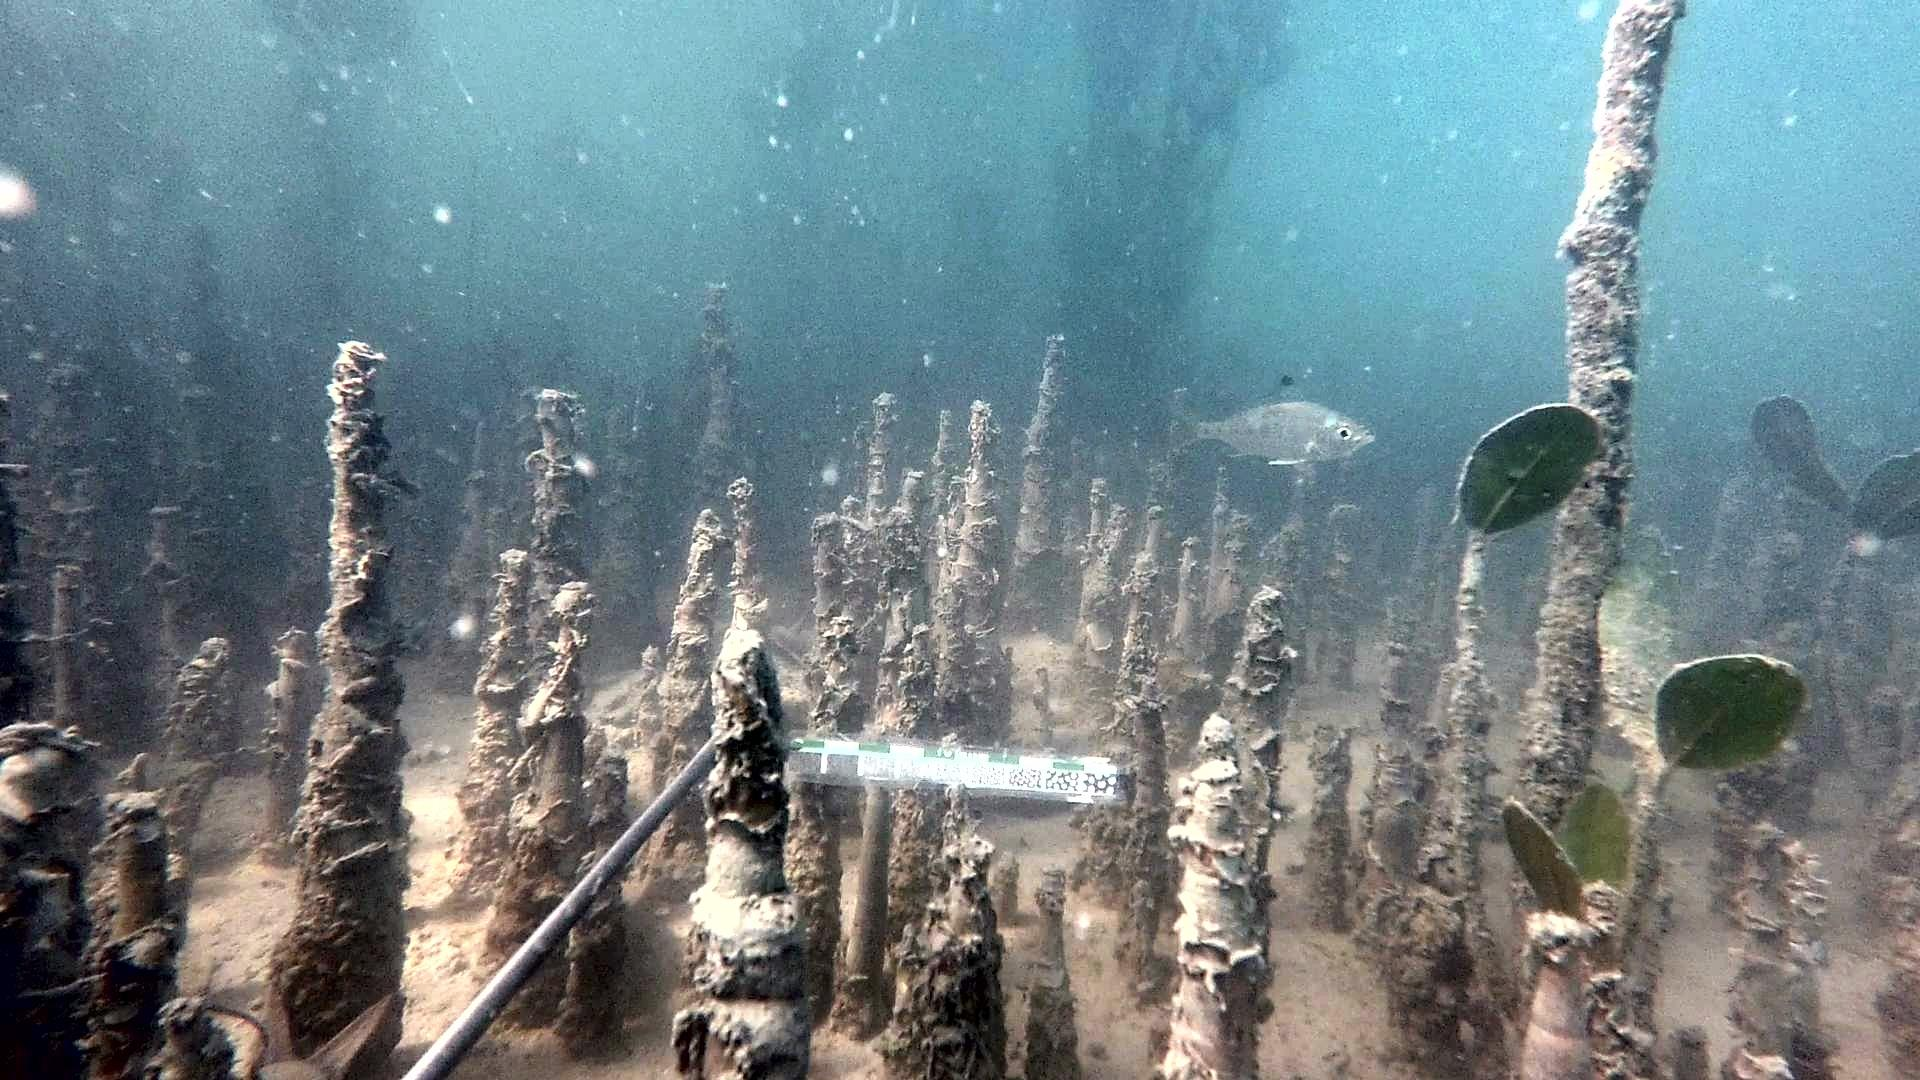gerres: (1163, 372, 1378, 468)
